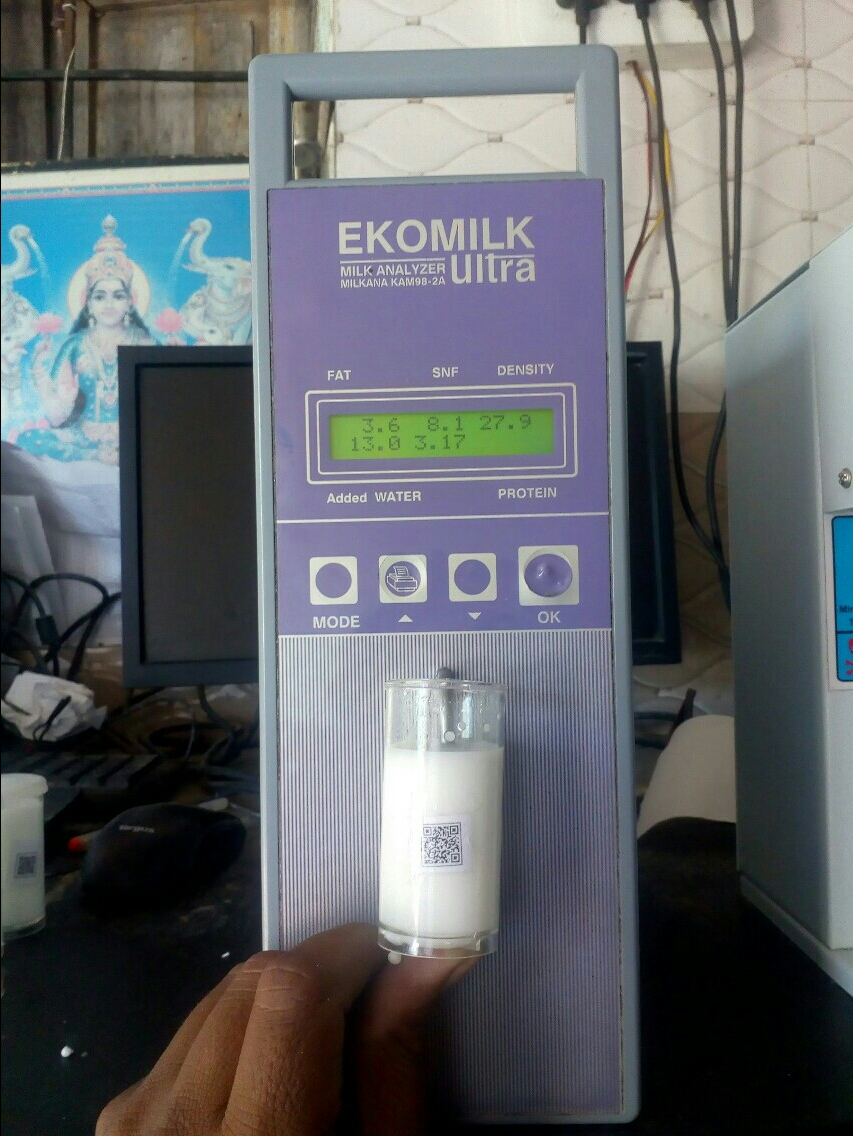lcd: (322, 397, 572, 466)
qr: (415, 818, 474, 876)
